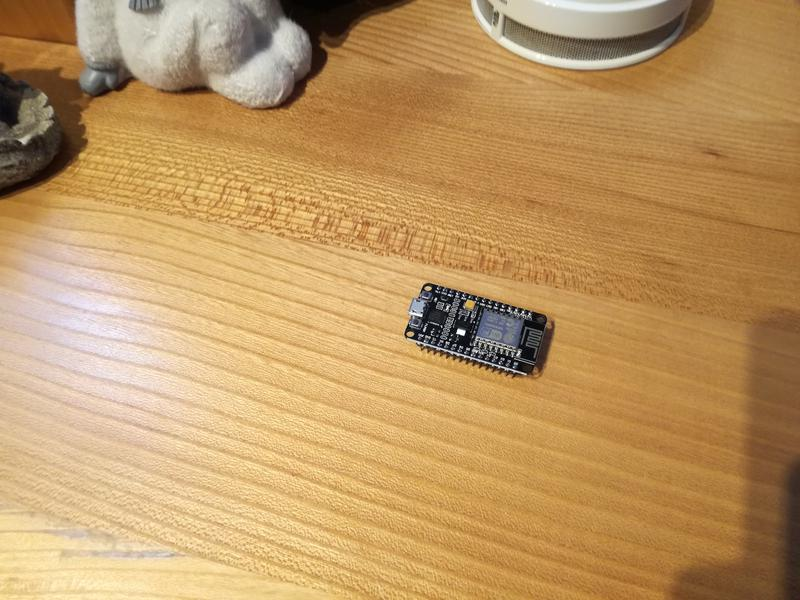ESP8266: (398, 276, 554, 392)
